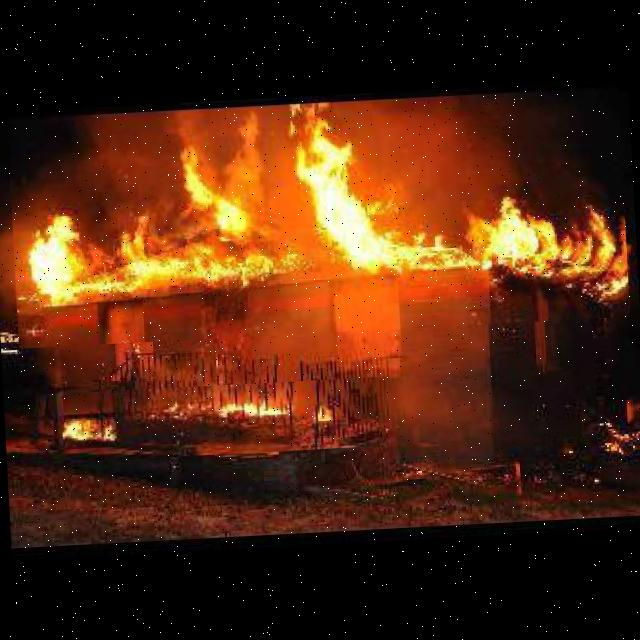fire: (7, 82, 630, 349), (46, 378, 380, 463)
